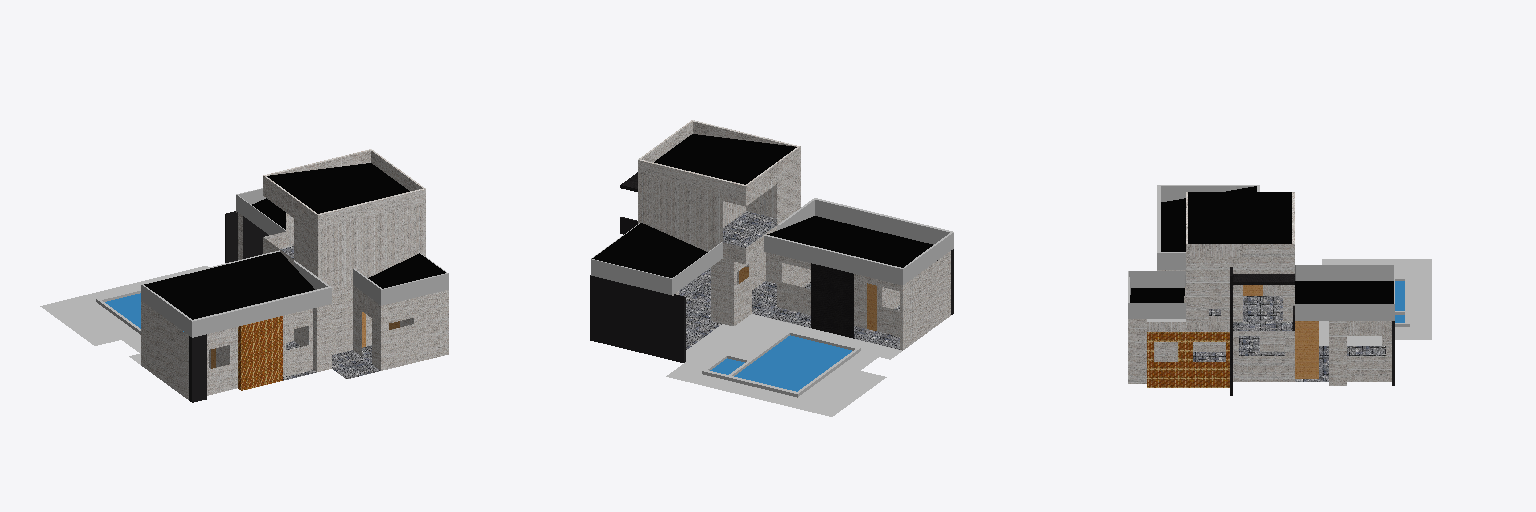
3 renders of one model, left to right at view 1: azimuth 30°, elevation 25°; view 2: azimuth 150°, elevation 25°; view 3: azimuth 270°, elevation 25°, orthographic.
Parts seen in each view (by area): view 1: paredes_Plane.001, techocorrugado_Plane.007, casa_Plane, nivel2_Plane.004, naranja_Plane.017, gris-obs_Plane.005, piso-casa_Plane.008, agua_Plane.002; view 2: paredes_Plane.001, casa_Plane, techocorrugado_Plane.007, gris-obs_Plane.005, piso-casa_Plane.008, nivel2_Plane.004, agua_Plane.002, orilla-alberca_Plane.003, puerta_Plane.006; view 3: paredes_Plane.001, casa_Plane, techocorrugado_Plane.007, naranja_Plane.017, piso-casa_Plane.008, puerta_Plane.006, gris-obs_Plane.005, nivel2_Plane.004.
Boxes of the visible parts, <box> form: paredes_Plane.001: <box>141,189,448,399</box>; techocorrugado_Plane.007: <box>144,163,445,319</box>; casa_Plane: <box>40,188,448,364</box>; nivel2_Plane.004: <box>263,149,425,265</box>; naranja_Plane.017: <box>238,316,282,390</box>; gris-obs_Plane.005: <box>189,211,268,402</box>; piso-casa_Plane.008: <box>209,246,380,380</box>; agua_Plane.002: <box>105,293,183,331</box>; paredes_Plane.001: <box>638,159,950,350</box>; casa_Plane: <box>591,198,953,416</box>; techocorrugado_Plane.007: <box>592,134,932,277</box>; gris-obs_Plane.005: <box>590,172,953,362</box>; piso-casa_Plane.008: <box>679,211,899,349</box>; nivel2_Plane.004: <box>638,120,800,263</box>; agua_Plane.002: <box>710,335,851,391</box>; orilla-alberca_Plane.003: <box>702,330,860,397</box>; puerta_Plane.006: <box>739,267,876,330</box>; paredes_Plane.001: <box>1128,244,1391,385</box>; casa_Plane: <box>1128,185,1431,345</box>; techocorrugado_Plane.007: <box>1130,186,1393,303</box>; naranja_Plane.017: <box>1147,332,1229,387</box>; piso-casa_Plane.008: <box>1193,296,1385,381</box>; puerta_Plane.006: <box>1243,285,1318,378</box>; gris-obs_Plane.005: <box>1230,267,1394,395</box>; nivel2_Plane.004: <box>1186,192,1294,321</box>.
Bounding box in the file's own units: 45.07 × 22 × 42.32.
9 materials, 5 textured.